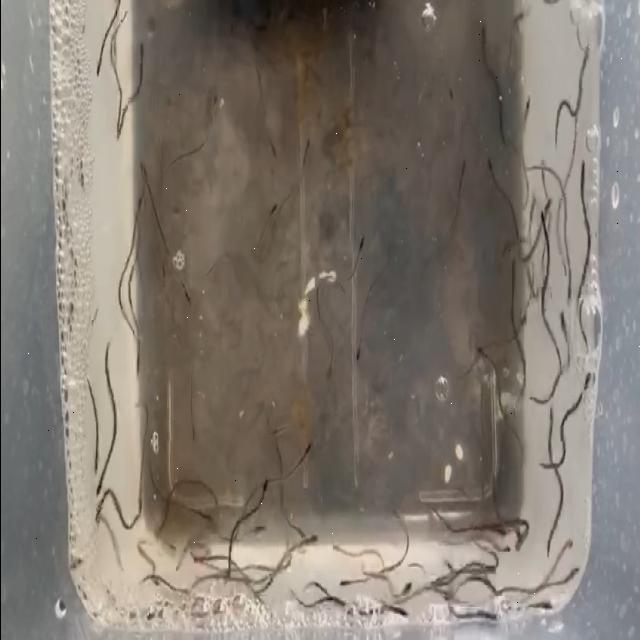inactive_glass_eel: (265, 195, 281, 239), (474, 339, 492, 377), (322, 343, 334, 397), (194, 494, 214, 526), (296, 434, 316, 466), (268, 412, 286, 445), (550, 300, 568, 332), (533, 209, 555, 235), (476, 18, 490, 56), (396, 570, 412, 602), (518, 86, 531, 125), (176, 273, 190, 307), (302, 527, 320, 553), (574, 160, 588, 190), (262, 138, 278, 164), (138, 36, 148, 76), (260, 475, 272, 507), (536, 188, 550, 214), (560, 272, 572, 302), (458, 158, 467, 196), (92, 56, 106, 80), (349, 344, 364, 366), (356, 236, 368, 262), (132, 165, 148, 184), (568, 565, 580, 589), (484, 154, 496, 178), (134, 350, 144, 378), (91, 478, 106, 496), (204, 95, 222, 110), (579, 38, 591, 60), (94, 502, 105, 525), (546, 399, 554, 423), (306, 106, 314, 128), (566, 538, 574, 556)
